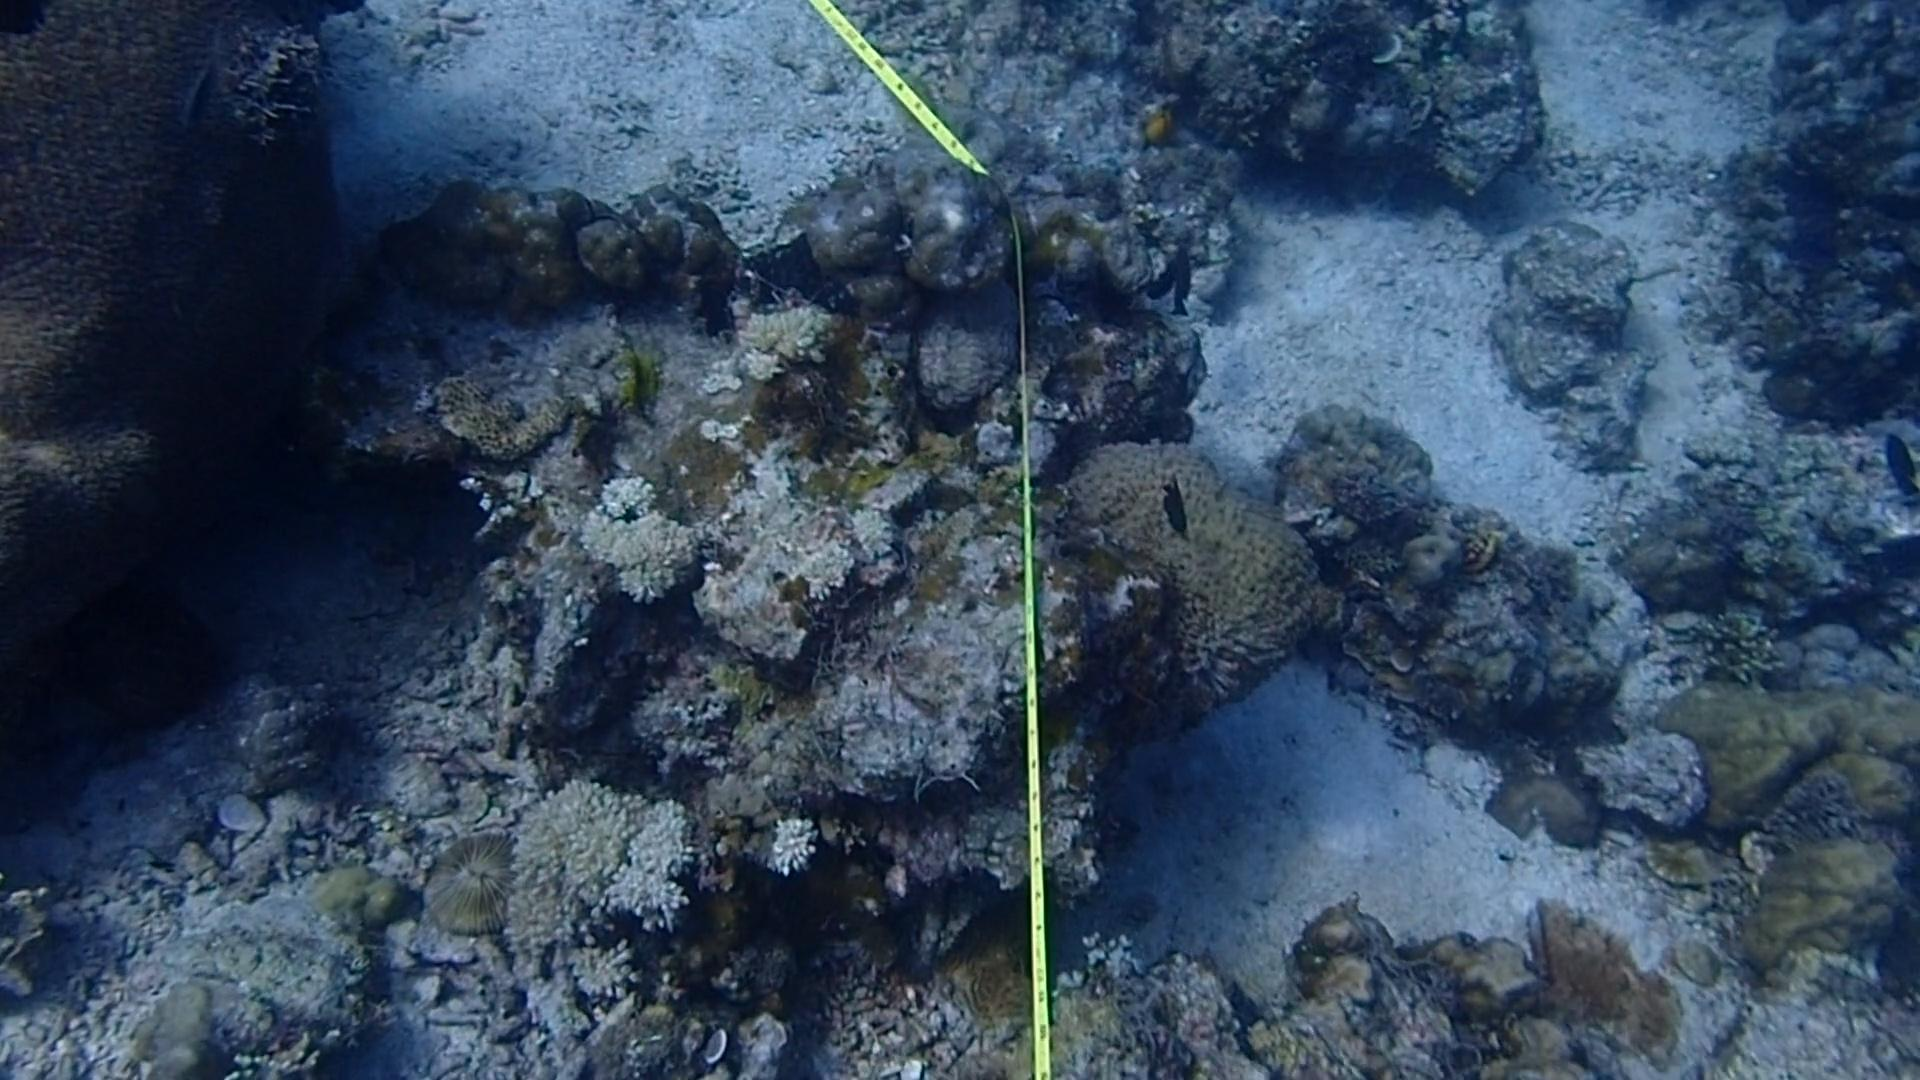Dark Fish: (1295, 524, 1366, 601), (1150, 468, 1204, 545), (1160, 228, 1204, 322), (1870, 433, 1920, 513), (1134, 240, 1188, 309)
